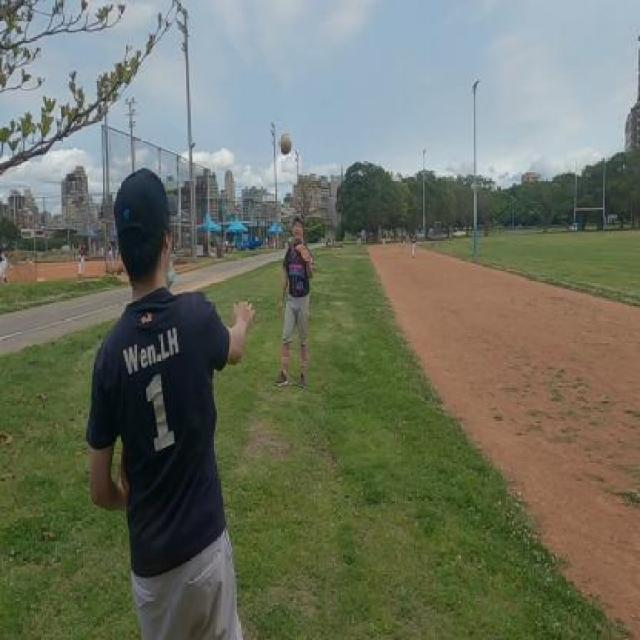baseball: (278, 132, 292, 156)
